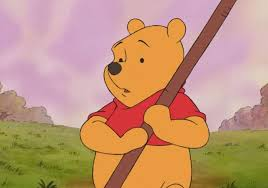Winnie: (101, 14, 204, 134)
